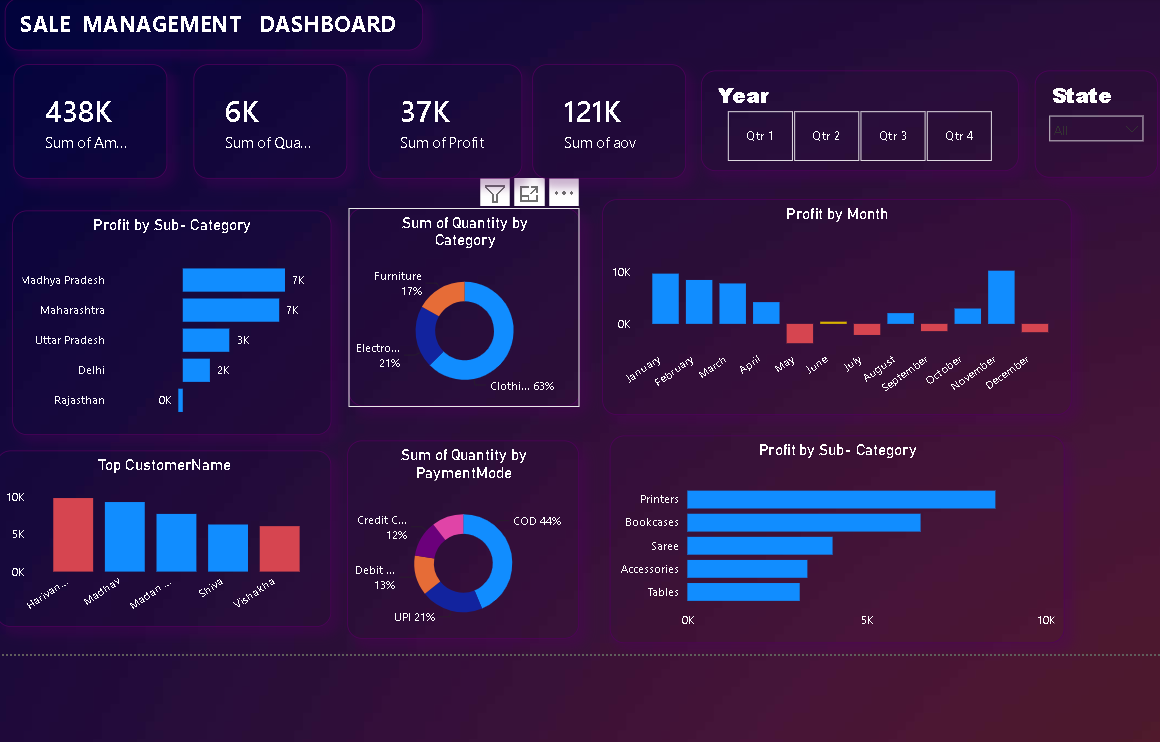

This screenshot's page, from the dashboard's own definition file:
{"tool":"powerbi","page":{"name":"Page 1","canvas":[1280,720],"ordinal":0},"visuals":[{"type":"textbox","box":[10,0,459.1,57.3],"z":0},{"type":"columnChart","title":" Profit by Month","fields":{"Y":["Sum(Details.Profit)"],"Category":["Orders.Order Date.Variation.Date Hierarchy.Month"]},"box":[665.6,221.1,515.6,236.7],"z":1000},{"type":"barChart","title":" Profit by Sub- Category","fields":{"Category":["Details.Sub-Category"],"Y":["Sum(Details.Profit)"]},"box":[673.3,480,498.9,227.8],"z":2000},{"type":"donutChart","fields":{"Category":["Details.Category"],"Y":["Sum(Details.Quantity)"]},"box":[386.7,231.1,254.4,217.8],"z":3000},{"type":"donutChart","fields":{"Category":["Details.PaymentMode"],"Y":["Sum(Details.Quantity)"]},"box":[385.6,485.6,254.4,217.8],"z":4000},{"type":"cardVisual","fields":{"Data":["Sum(Details.Amount)"]},"box":[18.9,72.2,168.9,125.6],"z":5000},{"type":"cardVisual","fields":{"Data":["Sum(Details.Profit)"]},"box":[408.9,72.2,168.9,125.6],"z":6000},{"type":"cardVisual","fields":{"Data":["Sum(Details.aov)"]},"box":[588.9,72.2,168.9,125.6],"z":7000},{"type":"cardVisual","fields":{"Data":["Sum(Details.Quantity)1"]},"box":[216.7,72.2,168.9,125.6],"z":8000},{"type":"barChart","title":" Profit by Sub- Category","fields":{"Y":["Sum(Details.Profit)"],"Category":["Orders.State"]},"box":[18.3,233.3,350,246.7],"z":9000},{"type":"columnChart","title":"Top  CustomerName","fields":{"Y":["Sum(Details.Amount)"],"Category":["Orders.CustomerName"]},"box":[0,496.7,368.3,193.3],"z":10000},{"type":"slicer","fields":{"Values":["Orders.Order Date.Variation.Date Hierarchy.Quarter"]},"box":[773.8,80,348.8,110],"z":11000},{"type":"slicer","fields":{"Values":["Orders.State"]},"box":[1140,80,135,117.5],"z":12000}]}

Visuals, with their boxes on the page's 1280x720 design canvas (x1, y1, x2, y2). These are canvas units, not pixel positions in the 1160x742 screenshot, which may show the page scaled, cropped or inside an application window:
textbox: x1=10 y1=0 x2=469 y2=57
" Profit by Month" columnChart: x1=666 y1=221 x2=1181 y2=458
" Profit by Sub- Category" barChart: x1=673 y1=480 x2=1172 y2=708
donutChart - Details.Category x Sum(Details.Quantity): x1=387 y1=231 x2=641 y2=449
donutChart - Details.PaymentMode x Sum(Details.Quantity): x1=386 y1=486 x2=640 y2=703
cardVisual - Sum(Details.Amount): x1=19 y1=72 x2=188 y2=198
cardVisual - Sum(Details.Profit): x1=409 y1=72 x2=578 y2=198
cardVisual - Sum(Details.aov): x1=589 y1=72 x2=758 y2=198
cardVisual - Sum(Details.Quantity)1: x1=217 y1=72 x2=386 y2=198
" Profit by Sub- Category" barChart: x1=18 y1=233 x2=368 y2=480
"Top  CustomerName" columnChart: x1=0 y1=497 x2=368 y2=690
slicer - Orders.Order Date.Variation.Date Hierarchy.Quarter: x1=774 y1=80 x2=1123 y2=190
slicer - Orders.State: x1=1140 y1=80 x2=1275 y2=198
